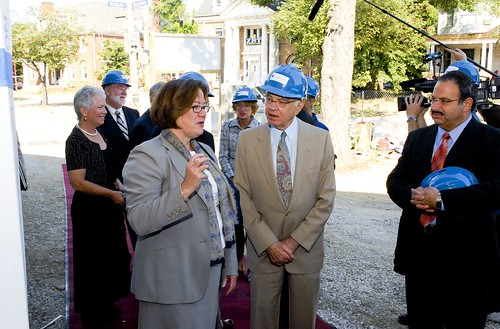person hardhat: (258, 65, 307, 128), (100, 71, 132, 107), (232, 87, 258, 122)
